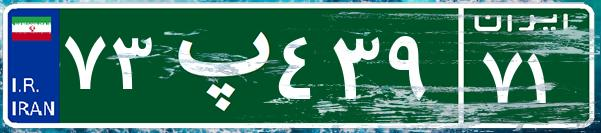1: (525, 38, 570, 115)
3: (330, 28, 385, 110), (110, 28, 158, 105)
4: (273, 28, 330, 110)
7: (57, 26, 110, 107), (475, 38, 525, 113)
9: (385, 28, 445, 110)
پ: (158, 15, 273, 115)
